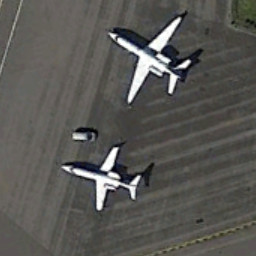Airplane: (104, 10, 201, 120), (54, 142, 154, 216)
